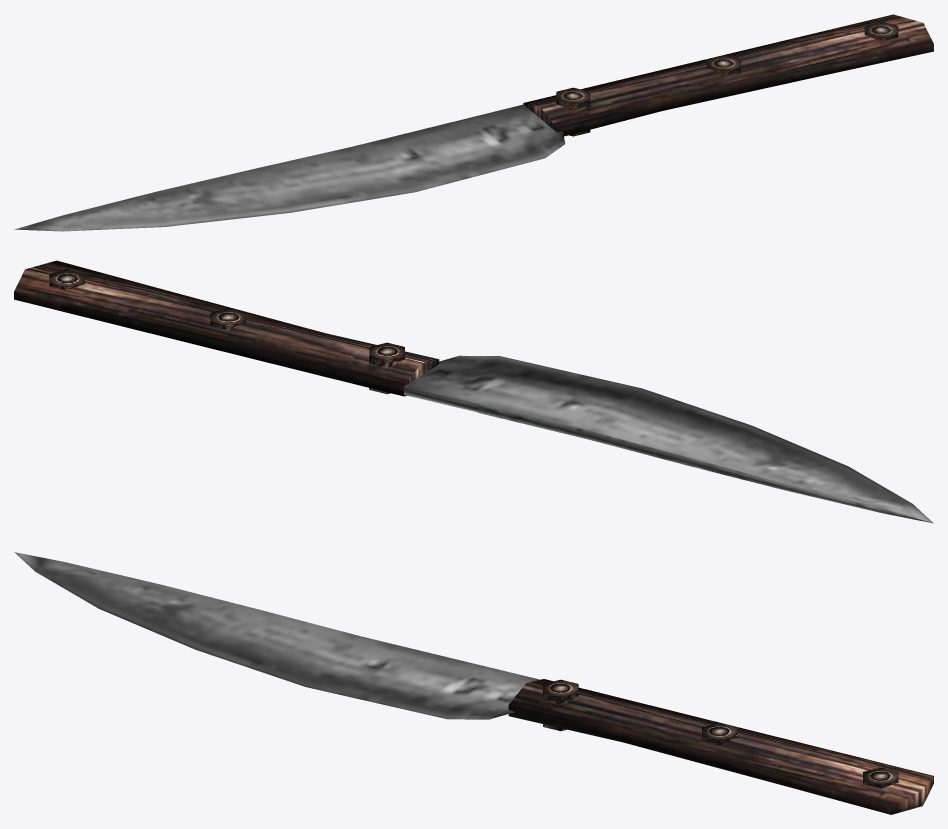
File: KM_ITMW_LAKOMY_1H_KITCHEN_KNIFE_01.glb
3 views of the same model, one above another, from view 1: azimuth 30°, elevation 25°; view 2: azimuth 150°, elevation 25°; view 3: azimuth 330°, elevation 25° (orthographic). The views are drawn at different scales.
Parts seen in each view (by area): view 1: Mesh; view 2: Mesh; view 3: Mesh.
Boxes of the visible parts, x1,y1,x2,y2 form: Mesh: [14, 14, 933, 231]; Mesh: [14, 260, 933, 523]; Mesh: [14, 552, 933, 814].
Bounding box in the file's own units: 0.4035 × 0.0141 × 0.049.
Materials: 2 (2 with a texture image).
